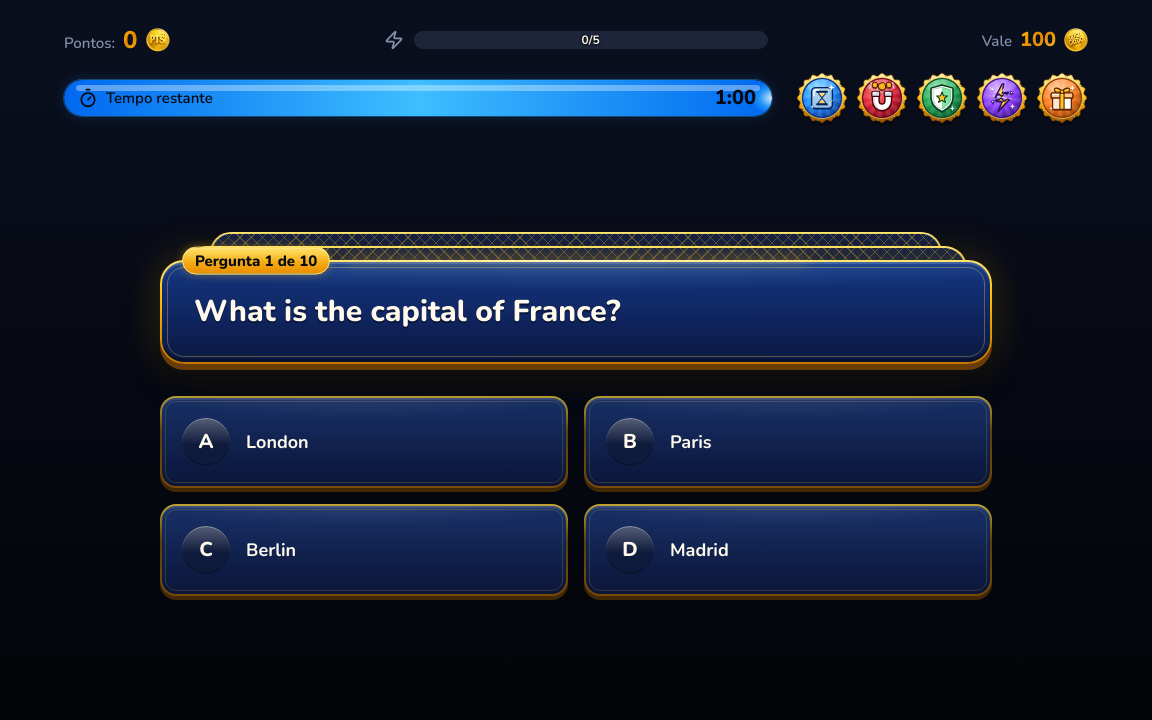
Test: GameScreen › action bar › closes the list of players, without using the disadvantage, once the answer is shown
Step 1. Click the button named "Roubar" → (882, 98), box [856,72,908,124]
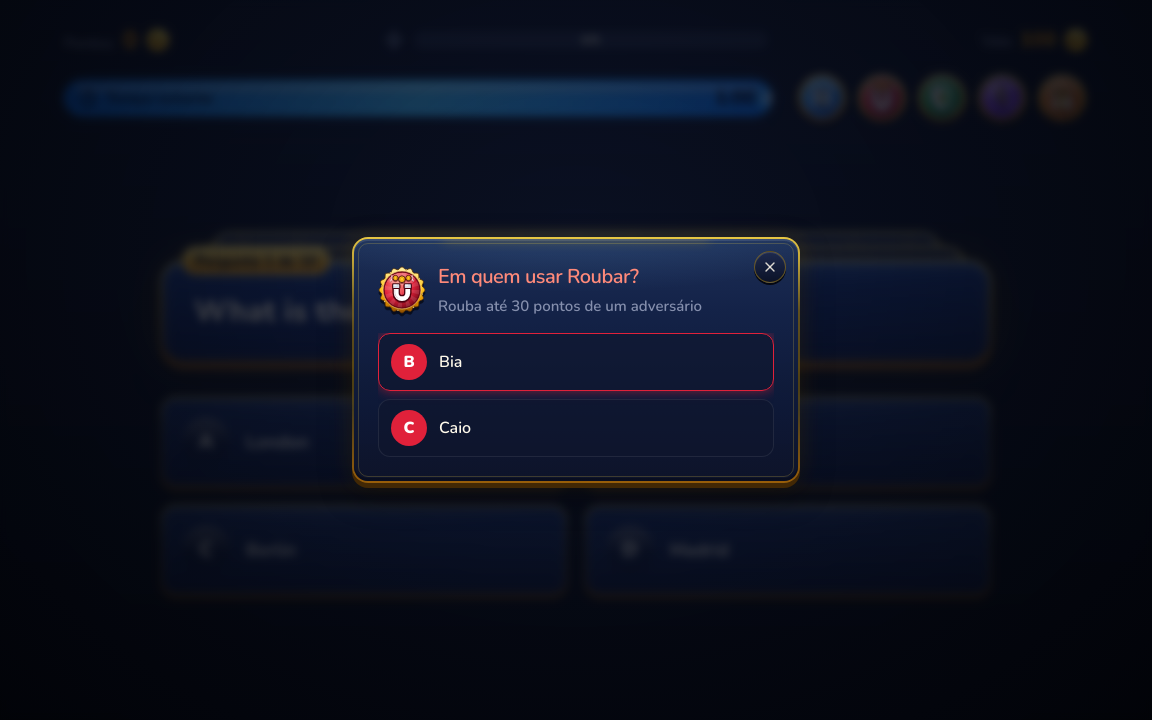
Check: the dialog is shown, box [352,237,800,483]
